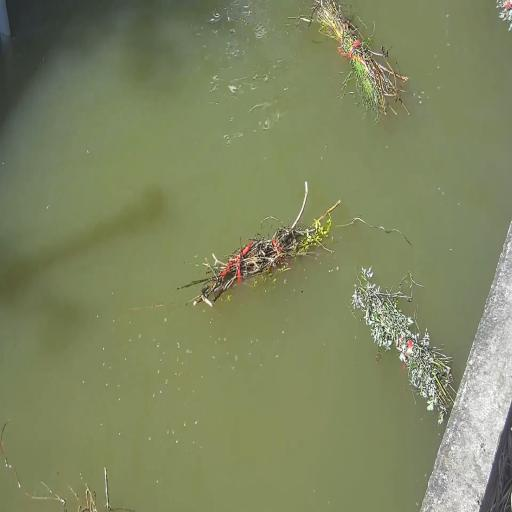twig: (178, 182, 340, 307), (352, 266, 454, 423), (310, 0, 409, 120), (99, 467, 134, 512), (25, 481, 73, 512), (66, 484, 98, 512), (496, 0, 512, 30), (5, 458, 21, 488), (0, 436, 5, 457), (2, 421, 8, 435)
